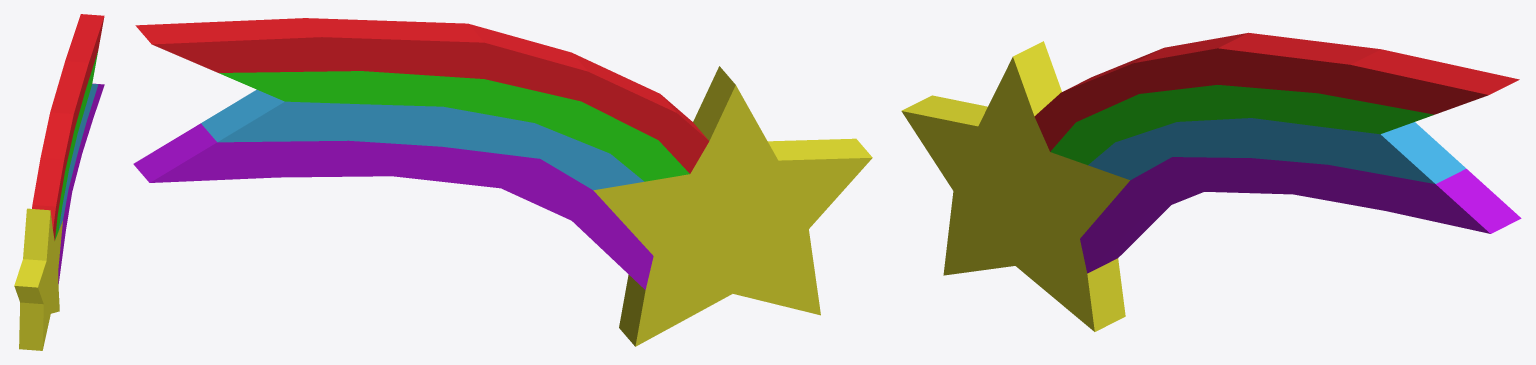
The model's file is Star.fbx.
The picture shows the model from 3 angles, left to right: view 1: azimuth 30°, elevation 25°; view 2: azimuth 150°, elevation 25°; view 3: azimuth 270°, elevation 25°; orthographic projection. The views are drawn at different scales.
Visible parts, largest first — view 1: Star; view 2: Star; view 3: Star.
Boxes of the visible parts, <box> form: Star: <box>14,14,104,350</box>; Star: <box>133,18,872,346</box>; Star: <box>901,32,1521,331</box>.
Size of the model in its own units: 130 by 101 by 151.
